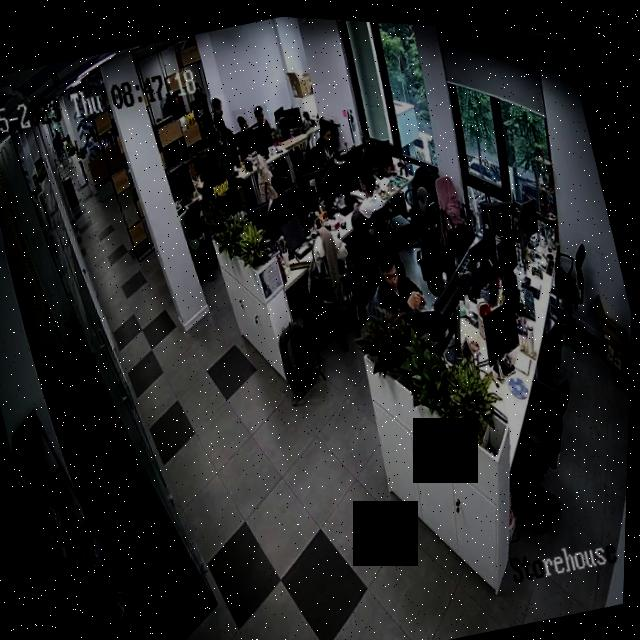person: (351, 229, 430, 321), (185, 128, 251, 224), (342, 154, 392, 217), (303, 109, 350, 167), (205, 90, 239, 144), (231, 103, 254, 138), (250, 99, 273, 128)
